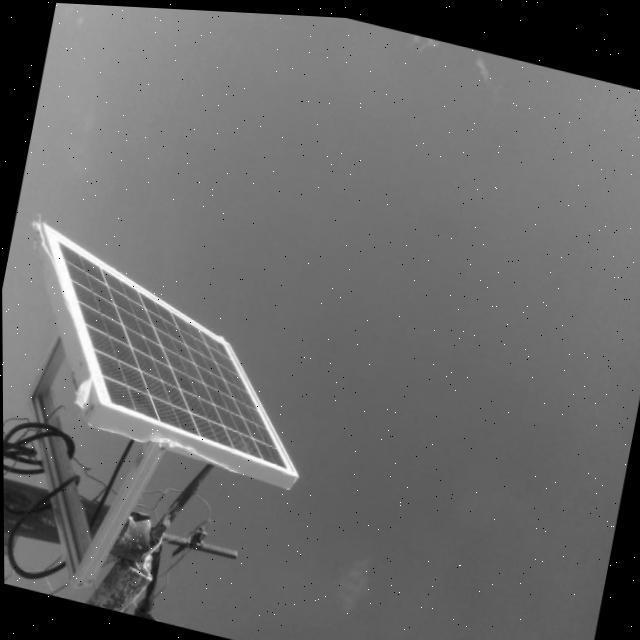Normal Solar Panel: (6, 220, 333, 476)
